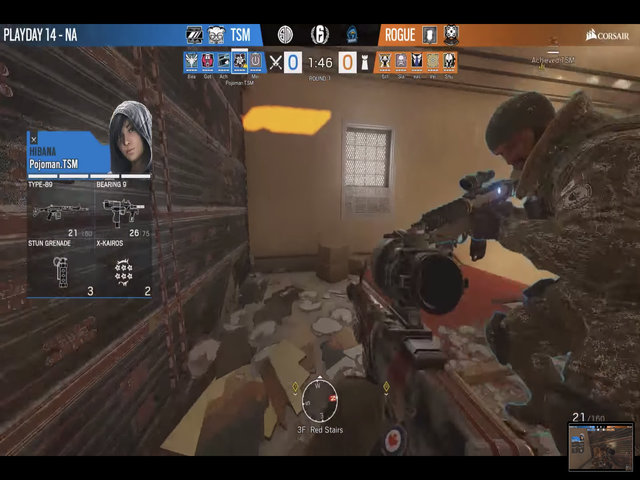0_blue: (283, 51, 303, 73)
